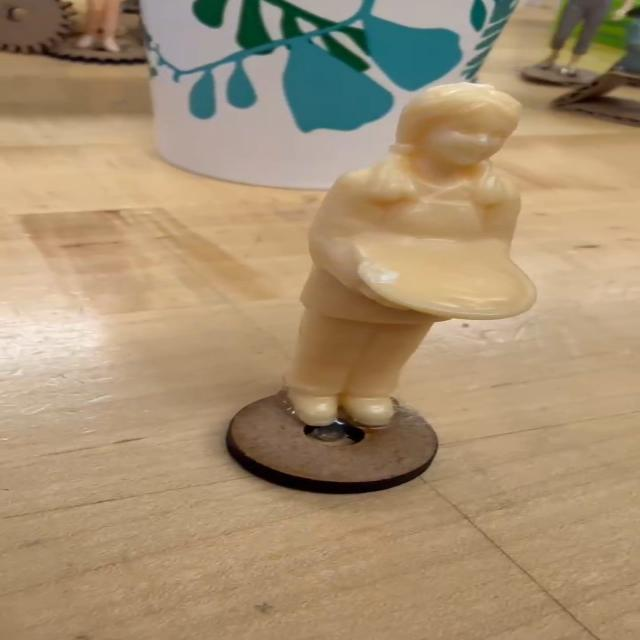Unauthorized: (301, 81, 534, 431)
